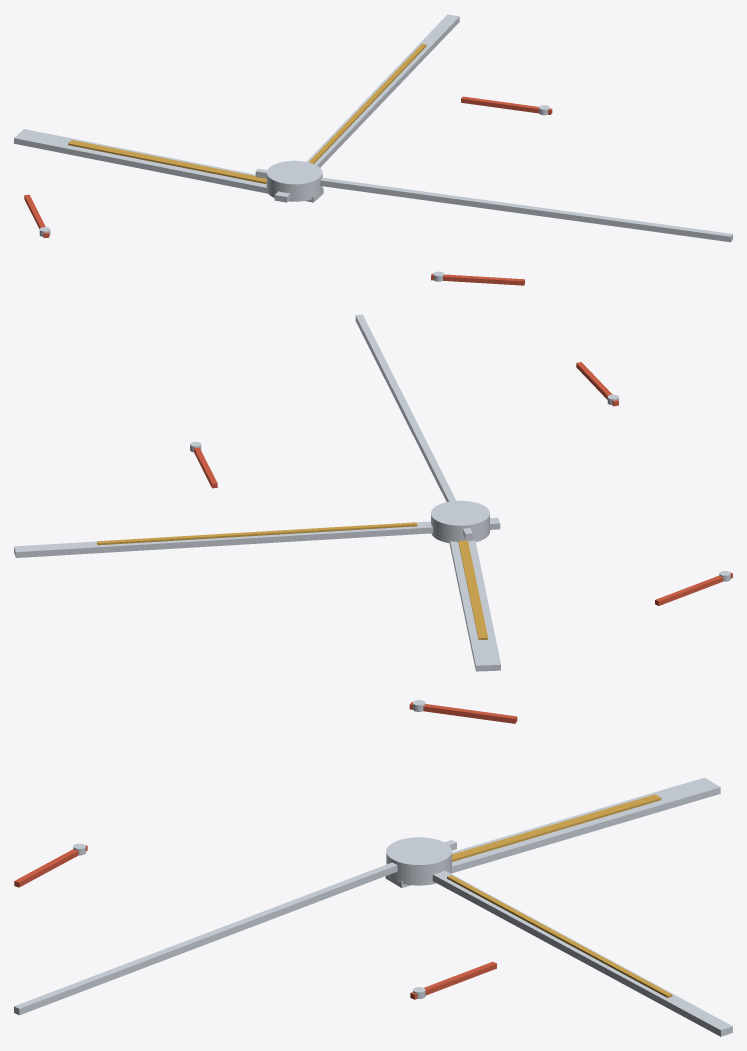
File: hands-chronograph-needle.glb
The picture shows the model from 3 angles, top to bottom: view 1: azimuth 30°, elevation 25°; view 2: azimuth 150°, elevation 25°; view 3: azimuth 270°, elevation 25°; orthographic projection. The views are drawn at different scales.
Visible parts, largest first — view 1: DD_ARCH_HAND_2, DD_ARCH_HAND_0, DD_ARCH_HAND_1, DD_ARCH_HAND_HUB, DD_ARCH_HAND_LUME_0, DD_ARCH_HAND_LUME_1, DD_ARCH_VK63_NEEDLE_1, DD_ARCH_VK63_NEEDLE_2; view 2: DD_ARCH_HAND_1, DD_ARCH_HAND_0, DD_ARCH_HAND_2, DD_ARCH_HAND_HUB, DD_ARCH_HAND_LUME_1, DD_ARCH_HAND_LUME_0; view 3: DD_ARCH_HAND_2, DD_ARCH_HAND_0, DD_ARCH_HAND_1, DD_ARCH_HAND_HUB, DD_ARCH_HAND_LUME_0, DD_ARCH_HAND_LUME_1, DD_ARCH_VK63_NEEDLE_0, DD_ARCH_VK63_NEEDLE_2, DD_ARCH_VK63_NEEDLE_1.
Boxes of the visible parts, x1,y1,x2,y2 form: DD_ARCH_HAND_2: (255,169,732,242); DD_ARCH_HAND_0: (14,129,323,202); DD_ARCH_HAND_1: (274,14,459,202); DD_ARCH_HAND_HUB: (266,160,322,201); DD_ARCH_HAND_LUME_0: (68,140,266,183); DD_ARCH_HAND_LUME_1: (309,44,426,163); DD_ARCH_VK63_NEEDLE_1: (431,273,524,285); DD_ARCH_VK63_NEEDLE_2: (461,96,552,114); DD_ARCH_HAND_1: (14,517,500,557); DD_ARCH_HAND_0: (449,540,500,671); DD_ARCH_HAND_2: (355,314,472,539); DD_ARCH_HAND_HUB: (431,500,489,543); DD_ARCH_HAND_LUME_1: (97,522,417,545); DD_ARCH_HAND_LUME_0: (458,540,487,639); DD_ARCH_HAND_2: (14,840,456,1015); DD_ARCH_HAND_0: (385,777,720,887); DD_ARCH_HAND_1: (386,849,732,1036); DD_ARCH_HAND_HUB: (386,837,451,885); DD_ARCH_HAND_LUME_0: (452,794,661,861); DD_ARCH_HAND_LUME_1: (447,875,672,997); DD_ARCH_VK63_NEEDLE_0: (409,702,517,723); DD_ARCH_VK63_NEEDLE_2: (410,961,496,999); DD_ARCH_VK63_NEEDLE_1: (14,845,87,887).
Size of the model in its own units: 16.44 by 0.72 by 15.88.
